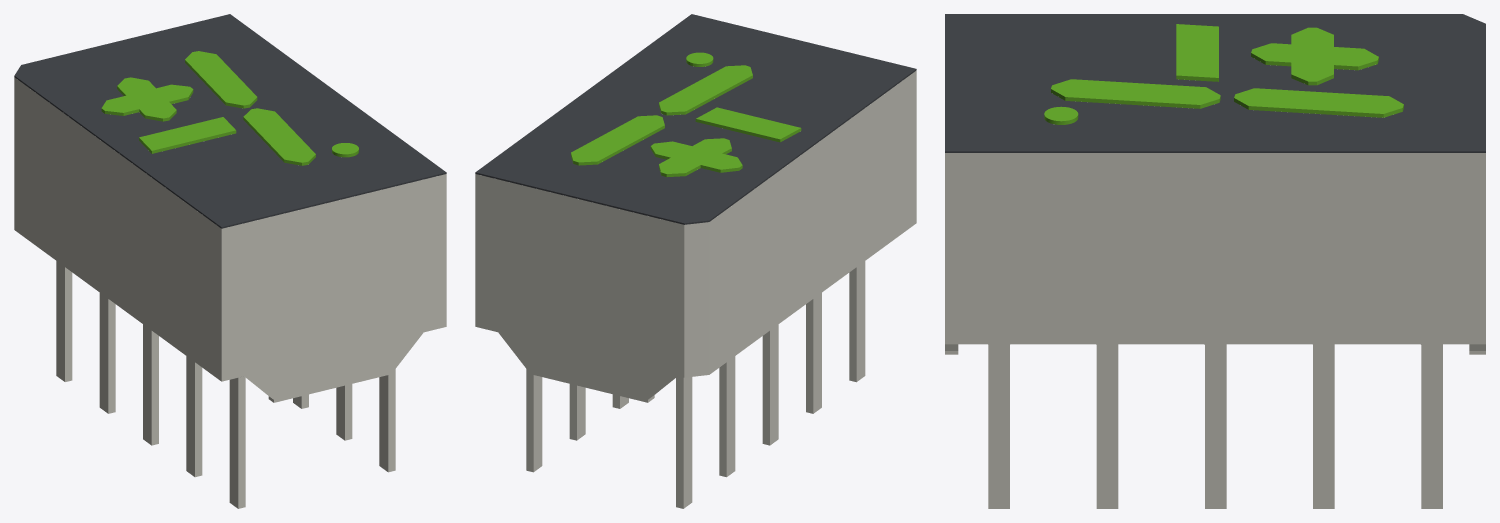
Rendered from kc-hdsp-7807.glb.
3 renders of one model, left to right at view 1: azimuth 30°, elevation 25°; view 2: azimuth 150°, elevation 25°; view 3: azimuth 270°, elevation 25°, orthographic. The views are drawn at different scales.
Parts seen in each view (by area): view 1: 0.6666666666666666_0.6666666666666666_0.5833333333333334_0.8, 0.08333333333333333_0.08333333333333333_0.08333333333333333_, 0.16666666666666666_0.4166666666666667_0_0; view 2: 0.6666666666666666_0.6666666666666666_0.5833333333333334_0.8, 0.08333333333333333_0.08333333333333333_0.08333333333333333_, 0.16666666666666666_0.4166666666666667_0_0; view 3: 0.6666666666666666_0.6666666666666666_0.5833333333333334_0.8, 0.08333333333333333_0.08333333333333333_0.08333333333333333_, 0.16666666666666666_0.4166666666666667_0_0.
Part boxes in pixels (x1,y1,x2,y2): 0.6666666666666666_0.6666666666666666_0.5833333333333334_0.8: (14,77,446,508); 0.08333333333333333_0.08333333333333333_0.08333333333333333_: (14,14,446,228); 0.16666666666666666_0.4166666666666667_0_0: (101,51,358,165); 0.6666666666666666_0.6666666666666666_0.5833333333333334_0.8: (475,70,916,508); 0.08333333333333333_0.08333333333333333_0.08333333333333333_: (475,14,916,224); 0.16666666666666666_0.4166666666666667_0_0: (571,52,801,177); 0.6666666666666666_0.6666666666666666_0.5833333333333334_0.8: (945,153,1485,508); 0.08333333333333333_0.08333333333333333_0.08333333333333333_: (945,14,1485,152); 0.16666666666666666_0.4166666666666667_0_0: (1044,24,1403,124).
Size of the model in its own units: 0.7621 by 0.99 by 1.27.
